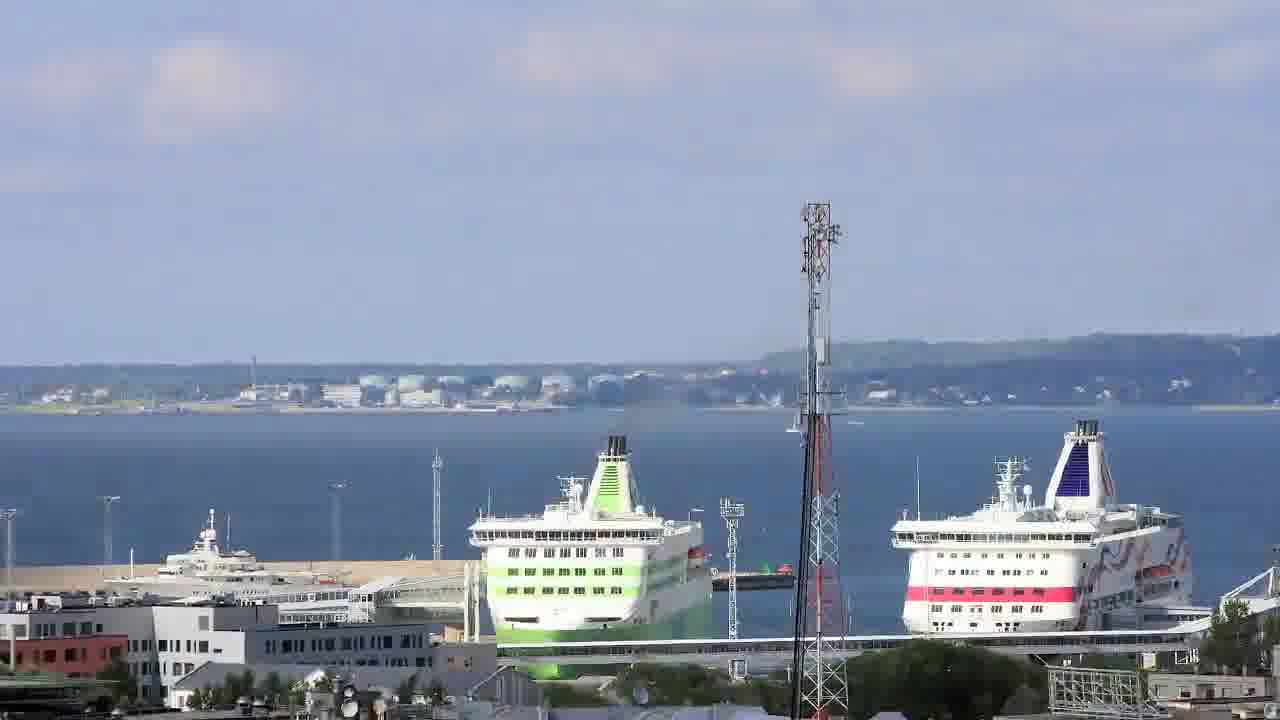type-2: (774, 407, 812, 456)
type-3: (868, 415, 1225, 638), (464, 433, 694, 670), (84, 511, 353, 609)
